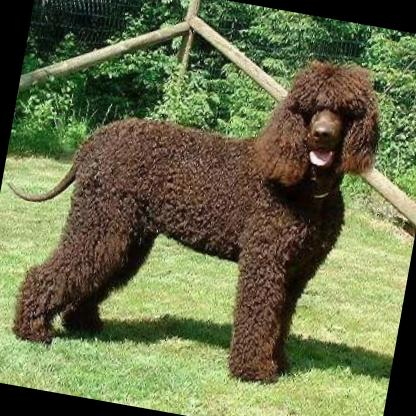Irish_water_spaniel: (0, 7, 392, 395)
